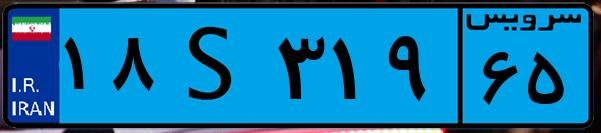1: (330, 28, 385, 110), (57, 26, 110, 100)
3: (270, 28, 330, 110)
5: (525, 38, 570, 115)
6: (475, 38, 525, 113)
8: (110, 28, 158, 98)
9: (385, 28, 445, 110)
S: (158, 12, 270, 120)
